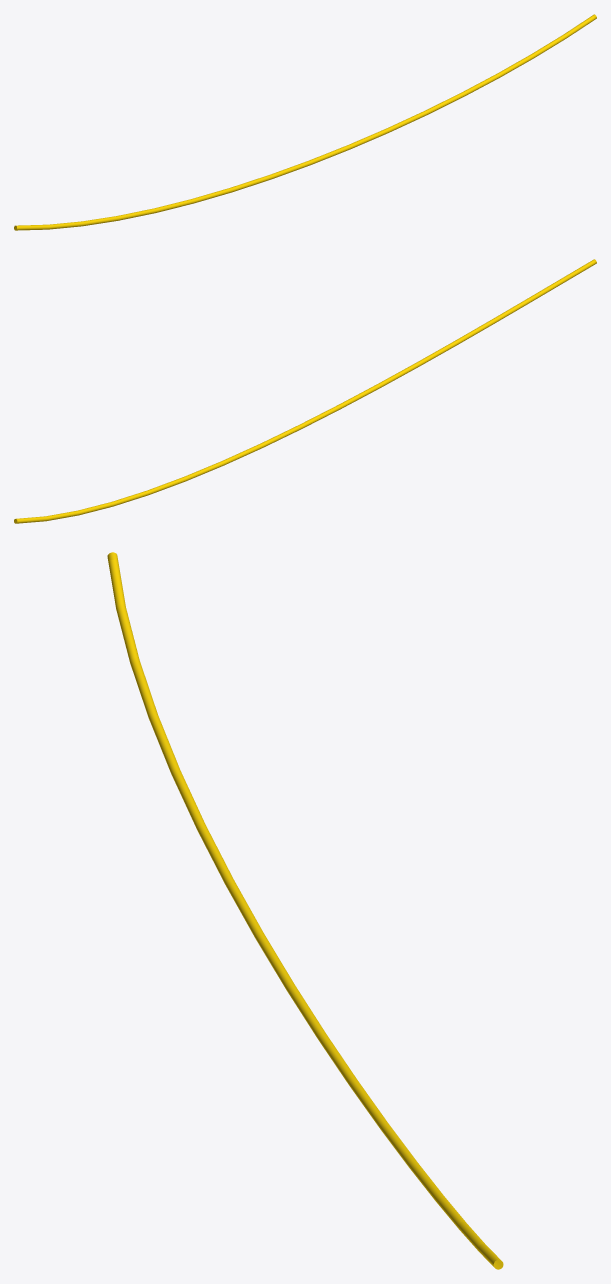
File: Event_421556567_track_31.fbx
The picture shows the model from 3 angles, top to bottom: view 1: azimuth 30°, elevation 25°; view 2: azimuth 210°, elevation 25°; view 3: azimuth 270°, elevation 25°; orthographic projection. The views are drawn at different scales.
Visible parts, largest first — view 1: Model; view 2: Model; view 3: Model.
Part boxes in pixels (x1,y1,x2,y2): Model: (14, 14, 596, 230); Model: (14, 259, 596, 523); Model: (107, 552, 503, 1269).
Size of the model in its own units: 6.26 by 0.5 by 1.58.
